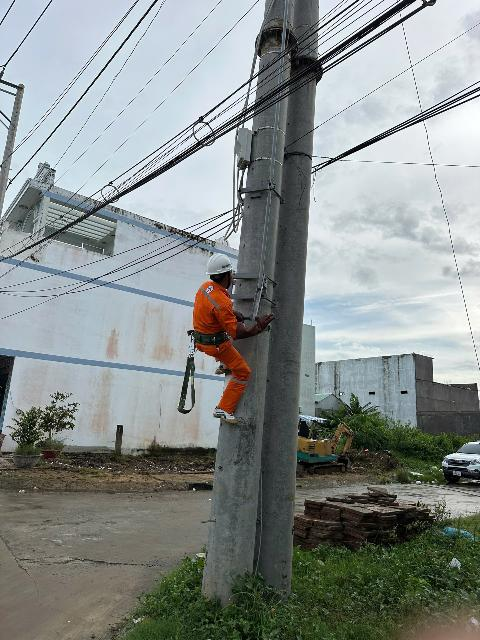gloves: (229, 320, 287, 337), (223, 308, 255, 324)
harness: (177, 322, 226, 357)
helmet: (198, 249, 238, 277)
shoes: (212, 400, 237, 428), (212, 357, 234, 377)
